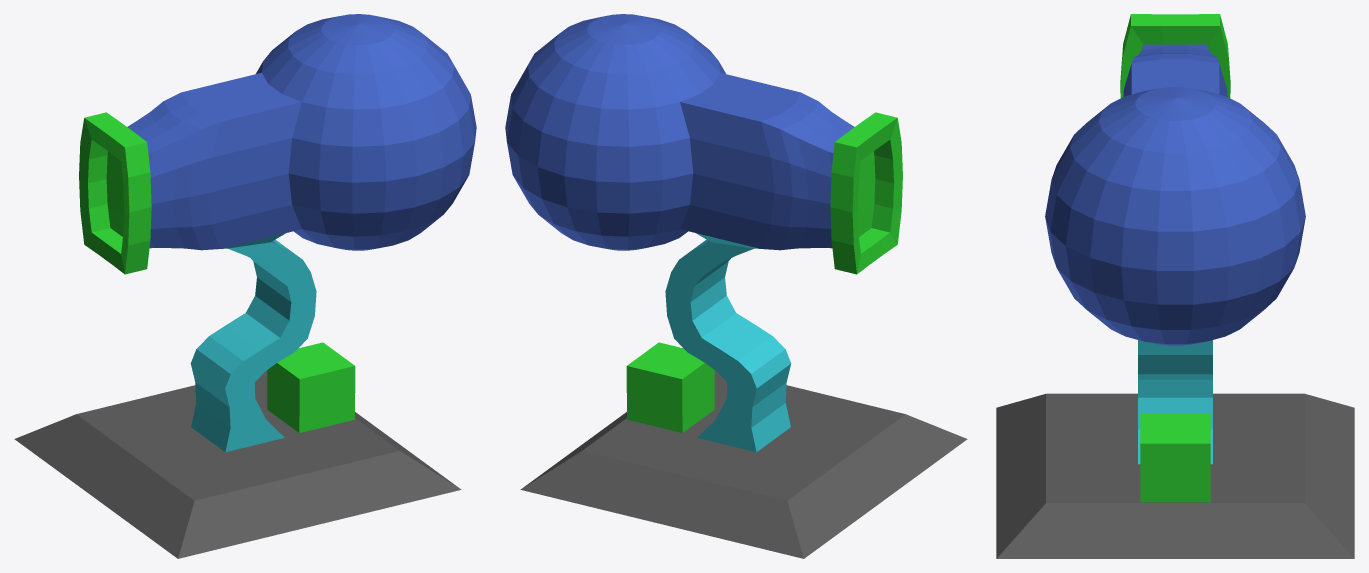
Rendered from TurretCube.fbx.
3 renders of one model, left to right at view 1: azimuth 30°, elevation 25°; view 2: azimuth 150°, elevation 25°; view 3: azimuth 270°, elevation 25°, orthographic. The views are drawn at different scales.
Visible parts, largest first — view 1: TurretCube; view 2: TurretCube; view 3: TurretCube.
Boxes of the visible parts, x1,y1,x2,y2 form: TurretCube: (14, 14, 476, 558); TurretCube: (505, 14, 967, 558); TurretCube: (996, 14, 1354, 558).
Size of the model in its own units: 12.84 by 13.84 by 10.
Materials: 1 (1 with a texture image).
